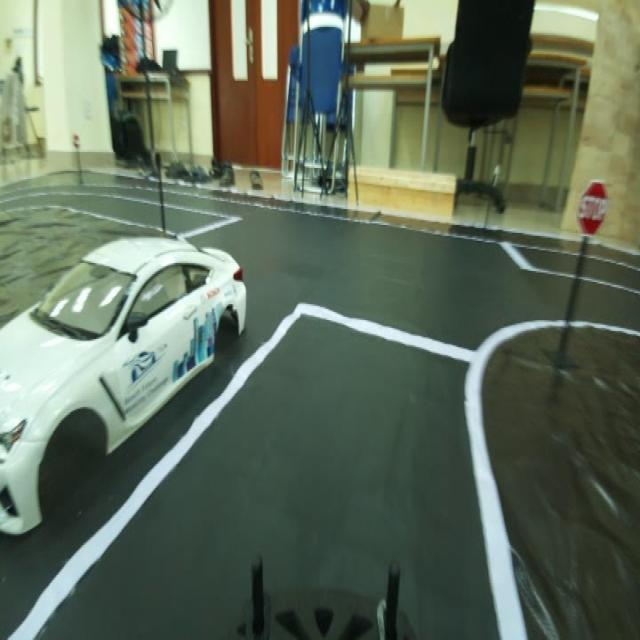car: (0, 232, 257, 508)
stop: (578, 175, 610, 242)
